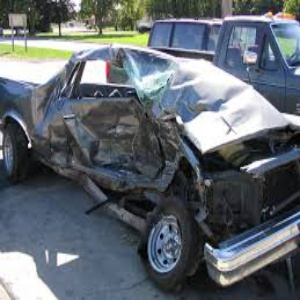door: (59, 109, 176, 198)
